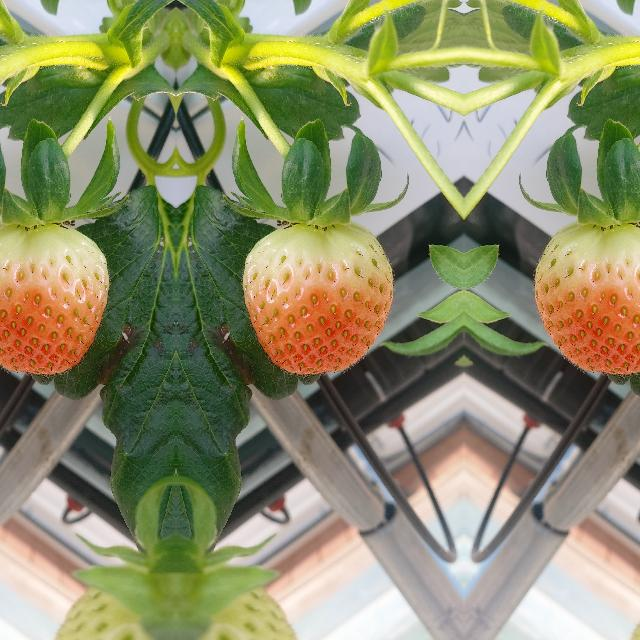Health_75: (241, 222, 391, 372), (0, 221, 109, 372), (535, 221, 640, 372)
